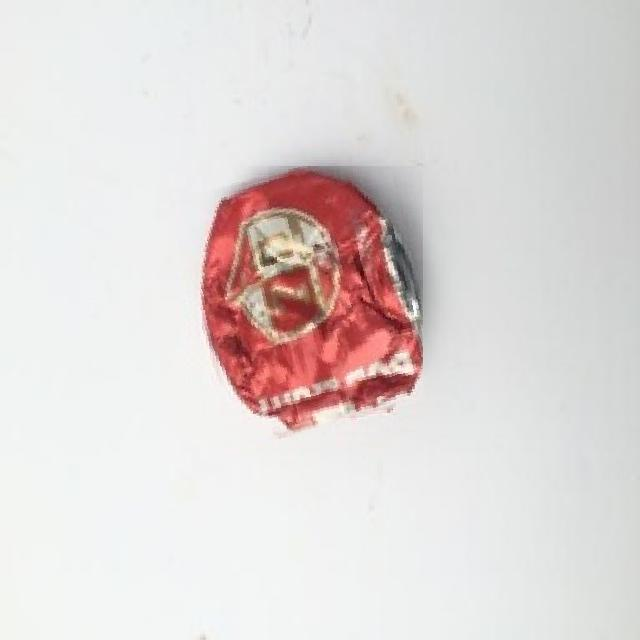recyclable: (181, 166, 423, 441)
